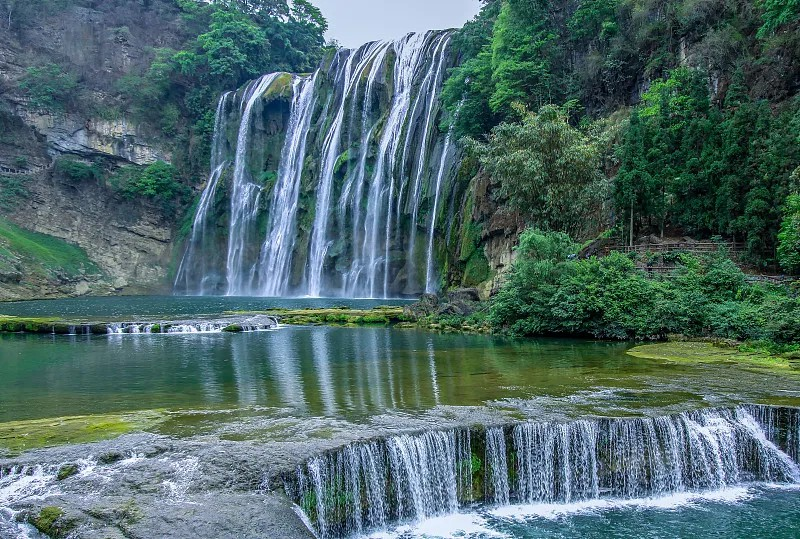Huangguoshu: (169, 27, 459, 301)
